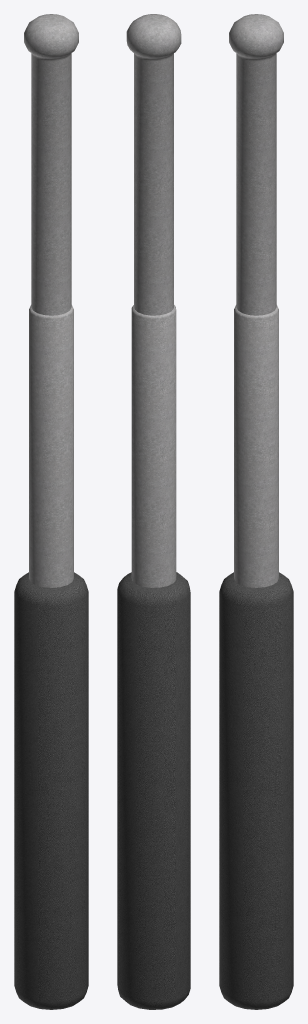
Rendered from simple_baton.glb.
3 views of the same model, side by side, from view 1: azimuth 90°, elevation 25°; view 2: azimuth 150°, elevation 25°; view 3: azimuth 270°, elevation 25° (orthographic).
Parts seen in each view (by area): view 1: Object_2; view 2: Object_2; view 3: Object_2.
Boxes of the visible parts, x1,y1,x2,y2 form: Object_2: (14,14,88,1009); Object_2: (117,14,190,1009); Object_2: (219,14,293,1009).
Bounding box in the file's own units: 2 × 29.19 × 2.
Materials: 1 (1 with a texture image).
